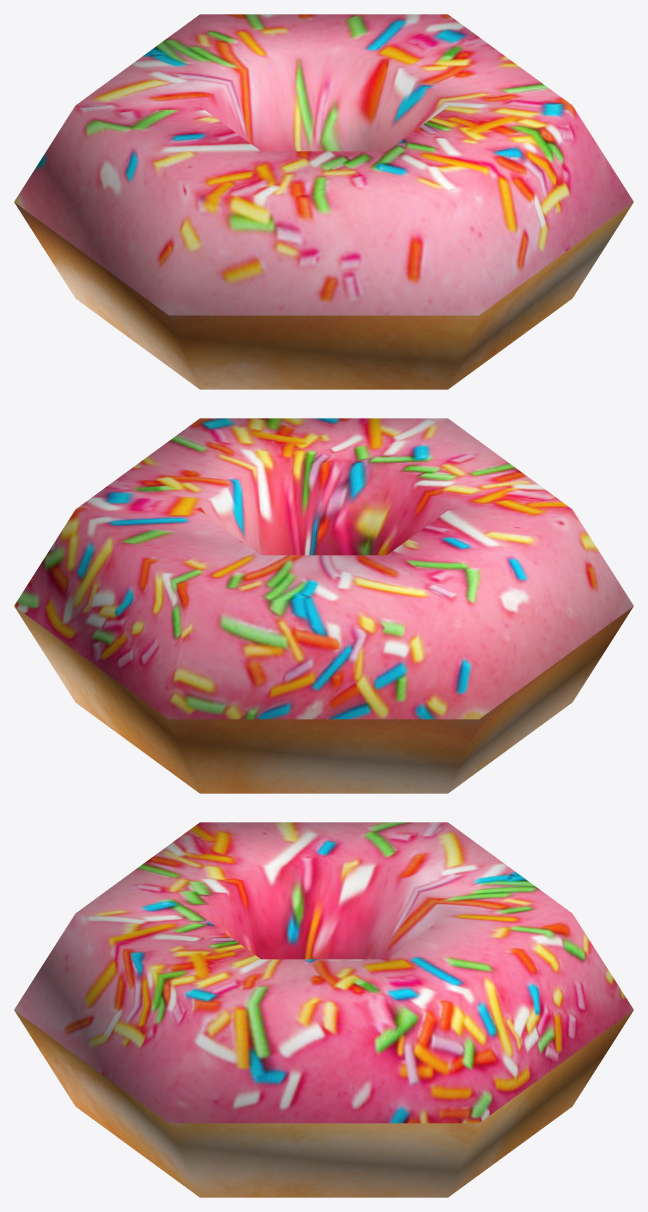
File: donutpink.fbx
3 views of the same model, one above another, from view 1: azimuth 30°, elevation 25°; view 2: azimuth 150°, elevation 25°; view 3: azimuth 270°, elevation 25° (orthographic).
Visible parts, largest first — view 1: DonutSingle.005; view 2: DonutSingle.005; view 3: DonutSingle.005.
Boxes of the visible parts, <box> form: DonutSingle.005: <box>14,14,633,389</box>; DonutSingle.005: <box>14,418,633,793</box>; DonutSingle.005: <box>14,822,633,1197</box>.
Size of the model in its own units: 46.5 by 18.45 by 53.7.
